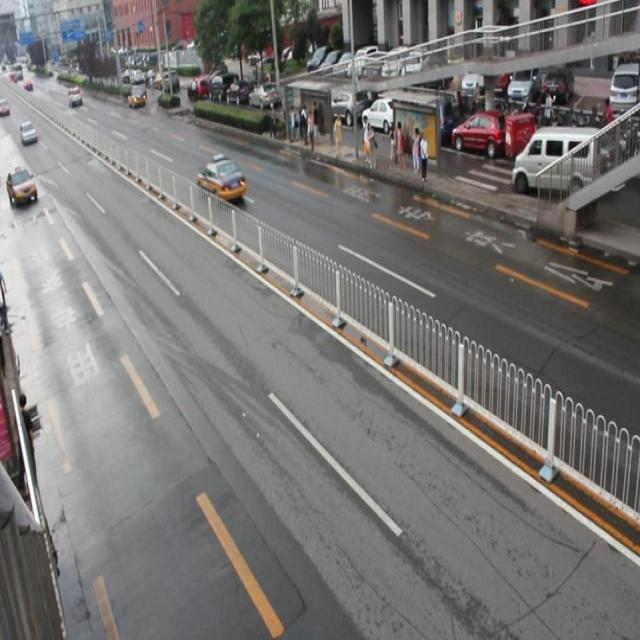car: (195, 154, 246, 204), (1, 166, 37, 203)
